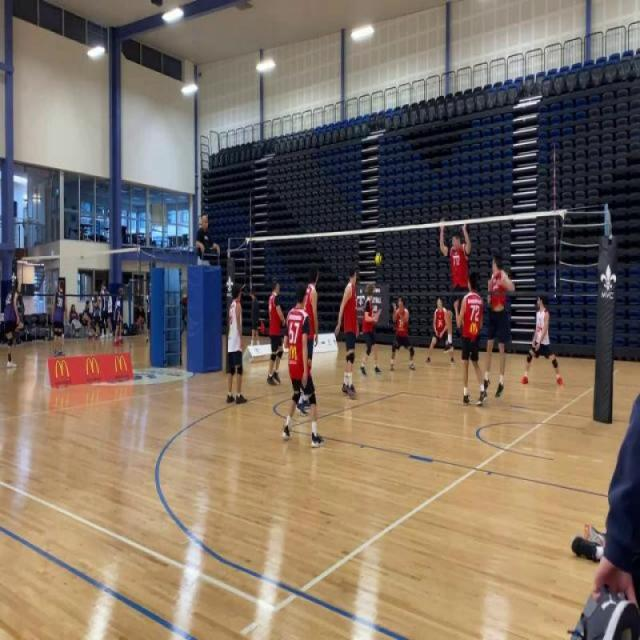volleyball: (373, 248, 384, 268)
